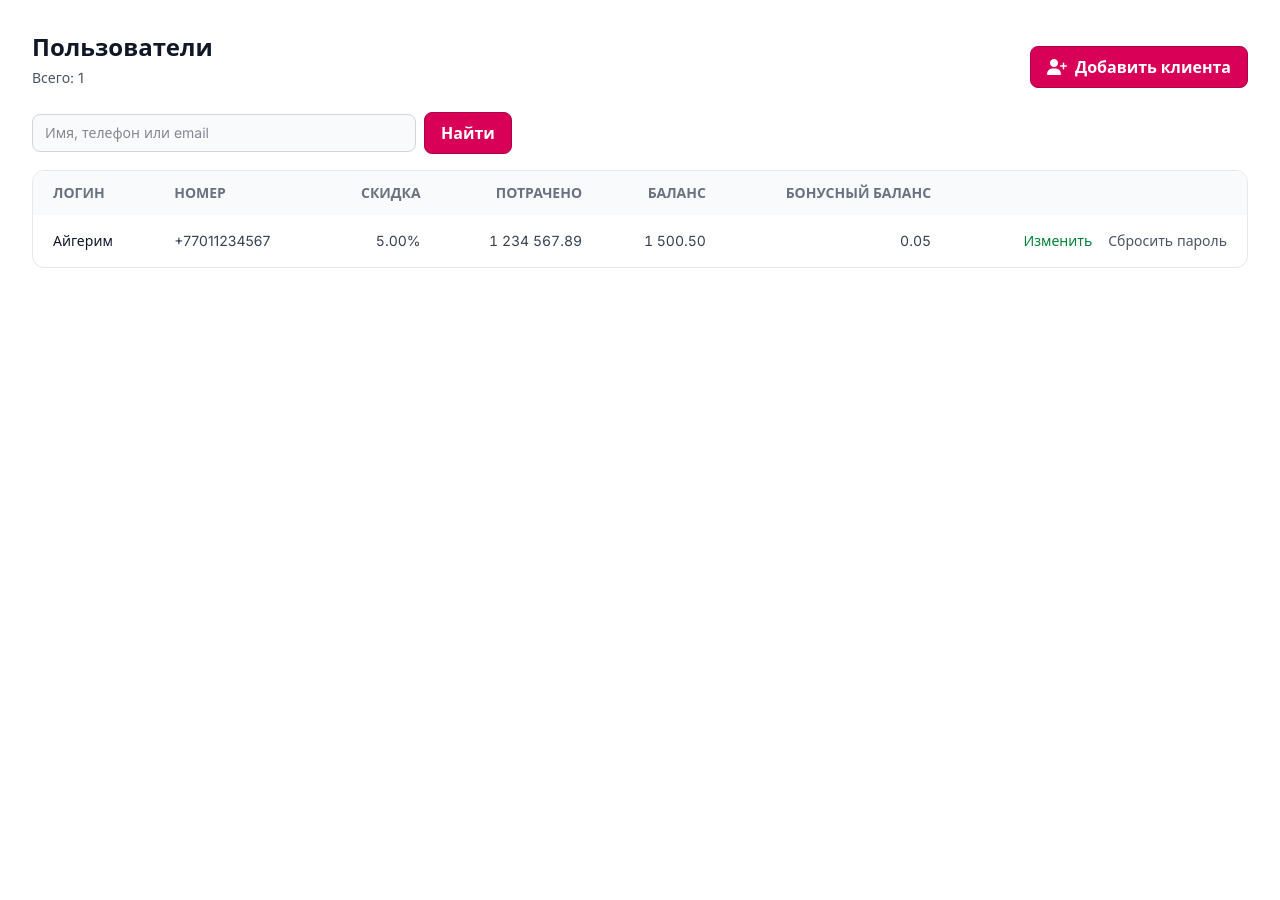
Test case: пользователи: деньги › владелец пополняет бонусный баланс: «250.75» → 25 075 тиынов, с ключом идемпотентности
The width and height of the screenshot is (1280, 900).
Expected: the text "Айгерим" is shown, top-left (33, 215), bottom-right (154, 267)
Click the button "Изменить".
click(1058, 241)  # box top-left (1023, 231), bottom-right (1092, 251)
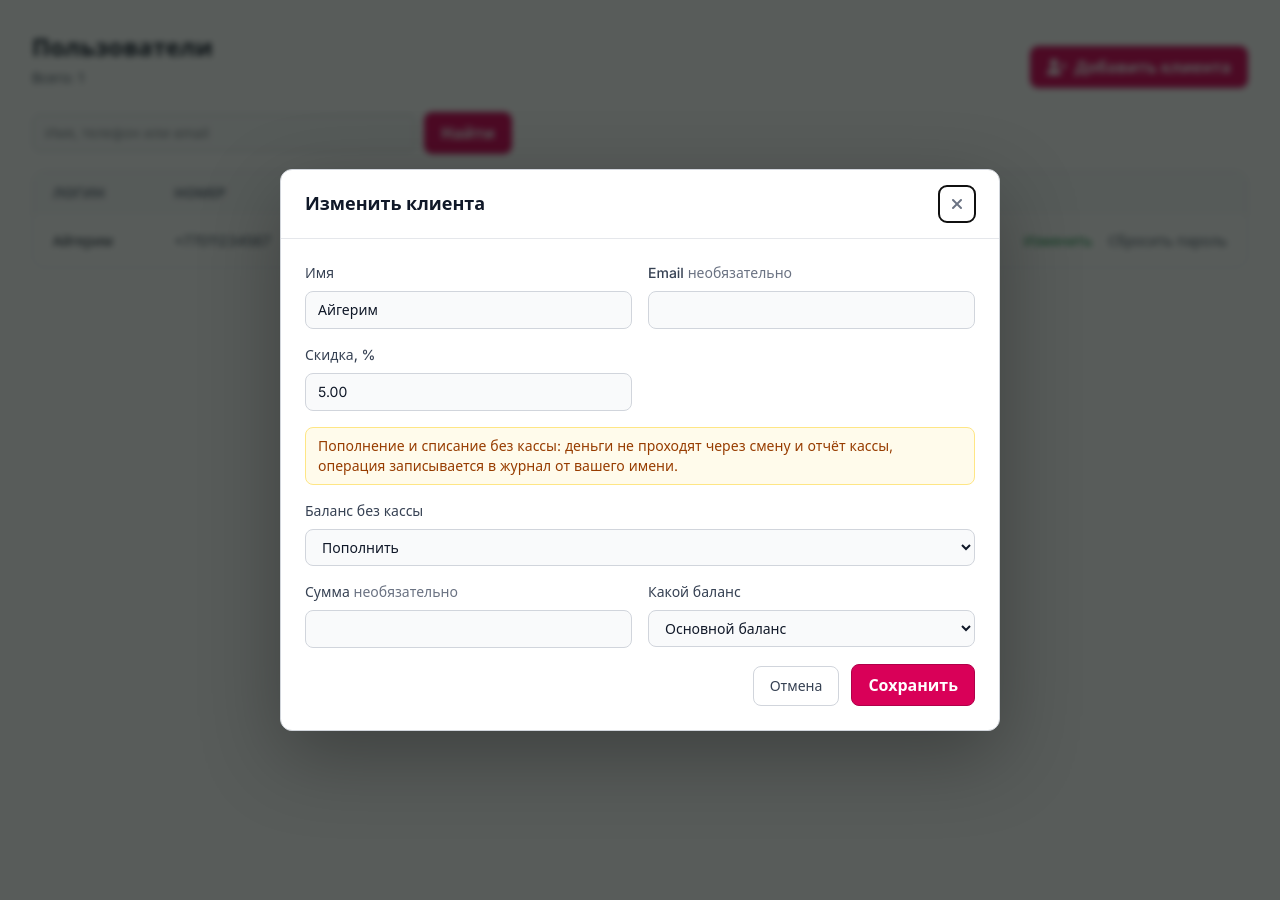
Type "250.75" into the number field with id "edit-user-top-up".
click(468, 629); type("250.75")  # box top-left (305, 610), bottom-right (632, 648)
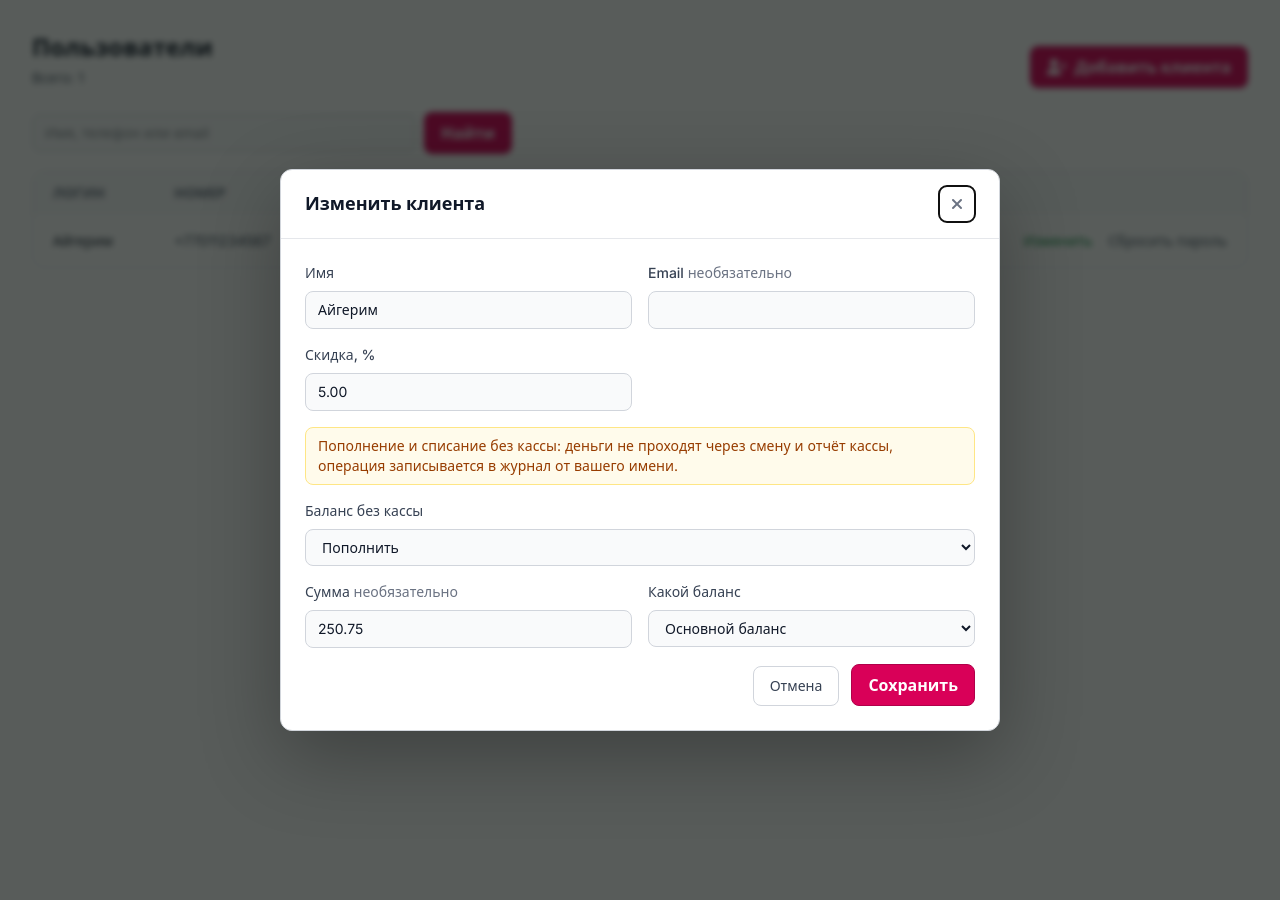
Select "Бонусный баланс" in the dropdown with id "edit-user-top-up-balance" at (812, 628), box top-left (648, 610), bottom-right (975, 647)
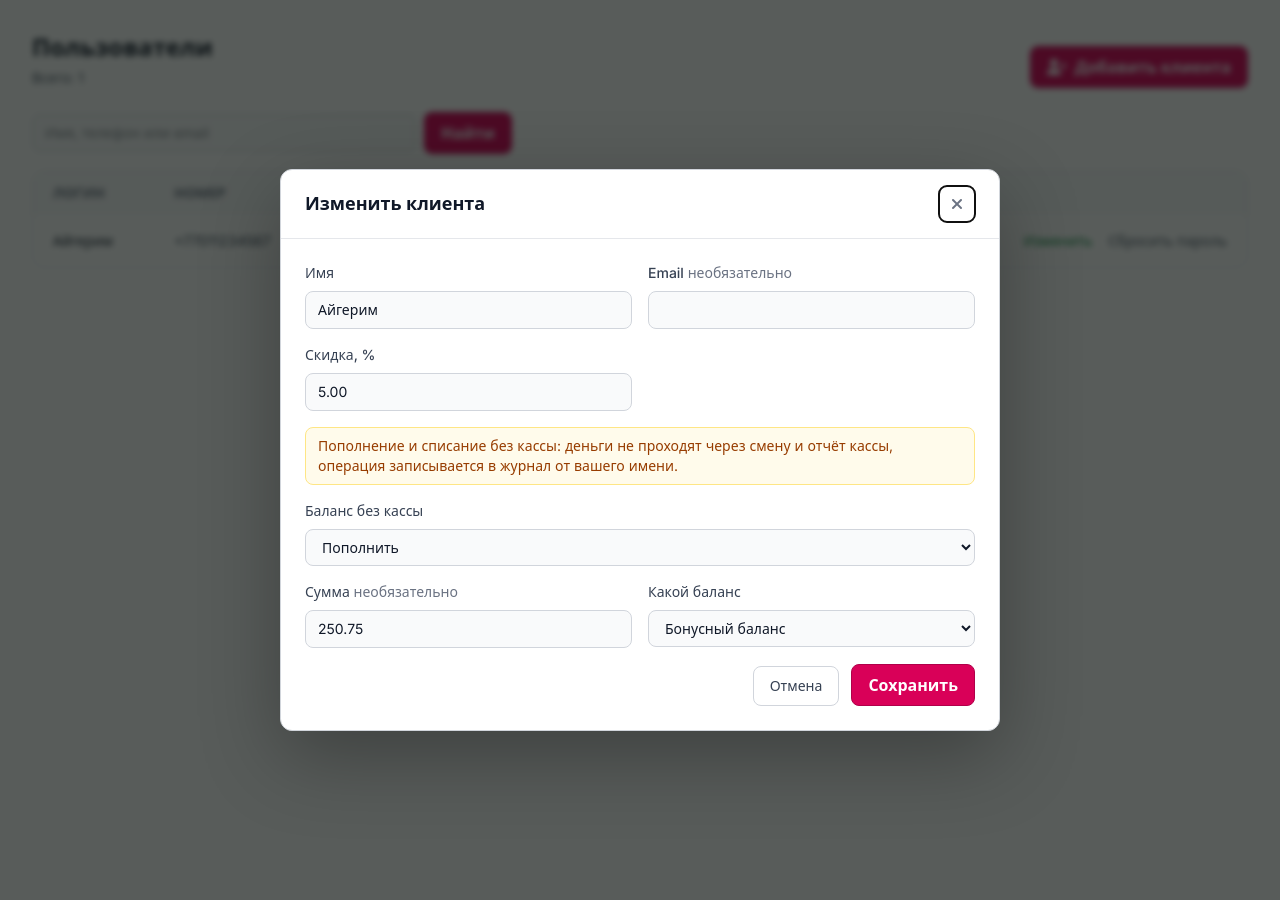
Select "Списать" in the dropdown with id "edit-user-balance-action" at (640, 548), box top-left (305, 529), bottom-right (975, 566)
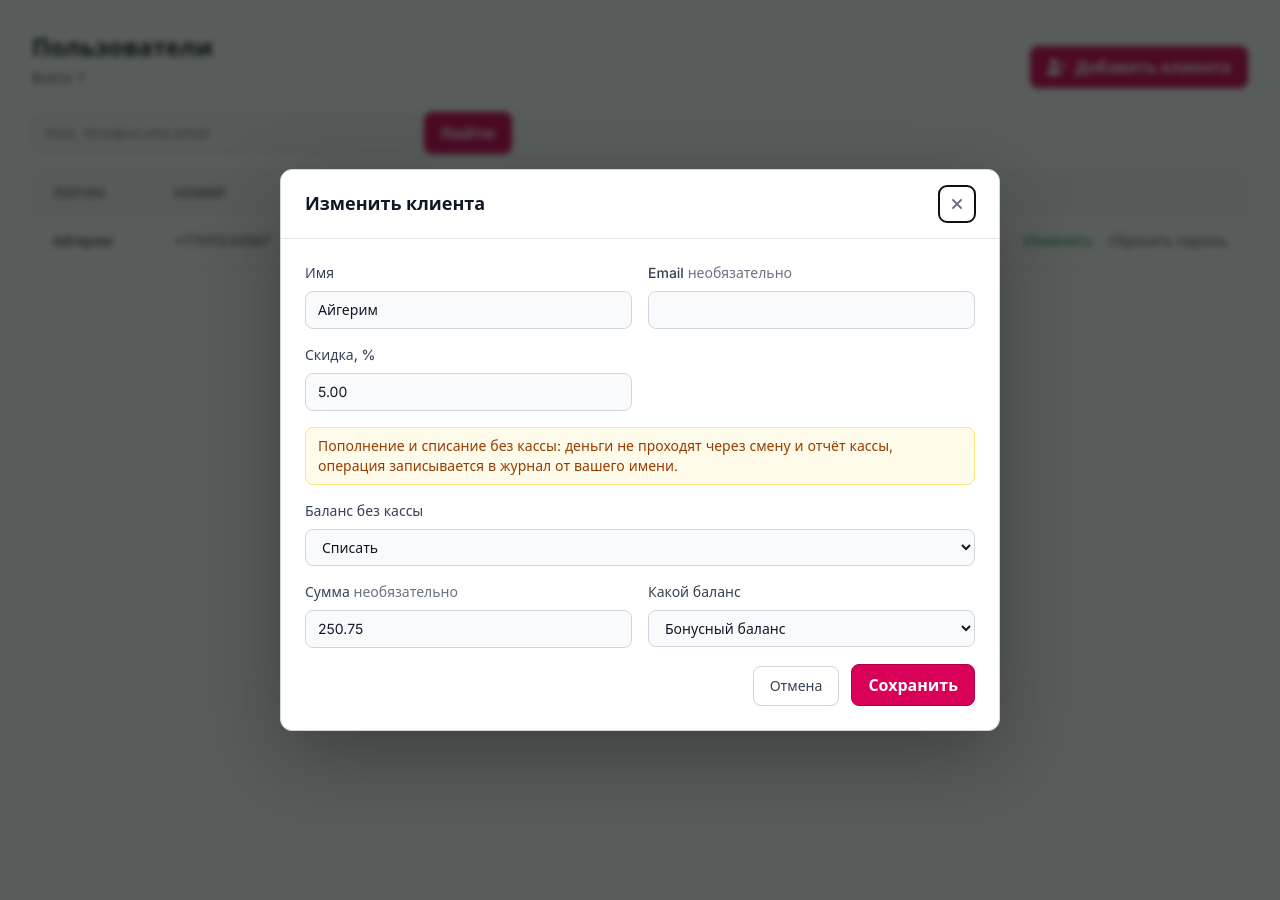
Submit the form that starts with "Имя", box top-left (305, 263), bottom-right (975, 706)
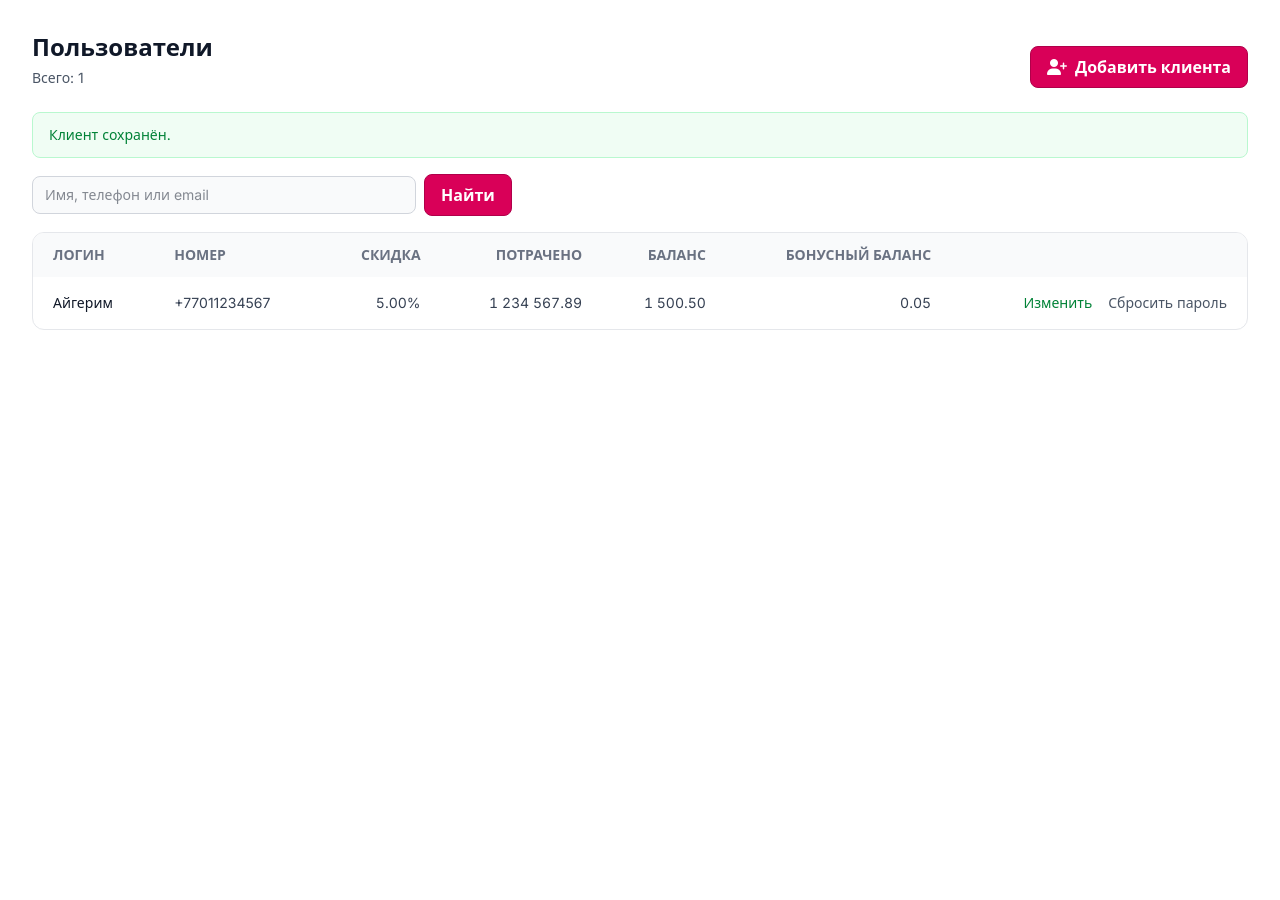
Now the text "Клиент сохранён." is shown, box top-left (32, 112), bottom-right (1248, 158)
